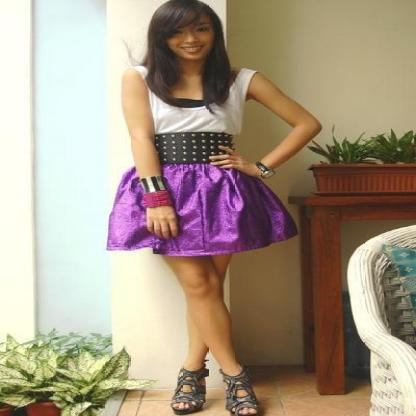shirt: (150, 68, 256, 134)
shoe: (171, 358, 267, 415)
skirt: (106, 158, 289, 256)
